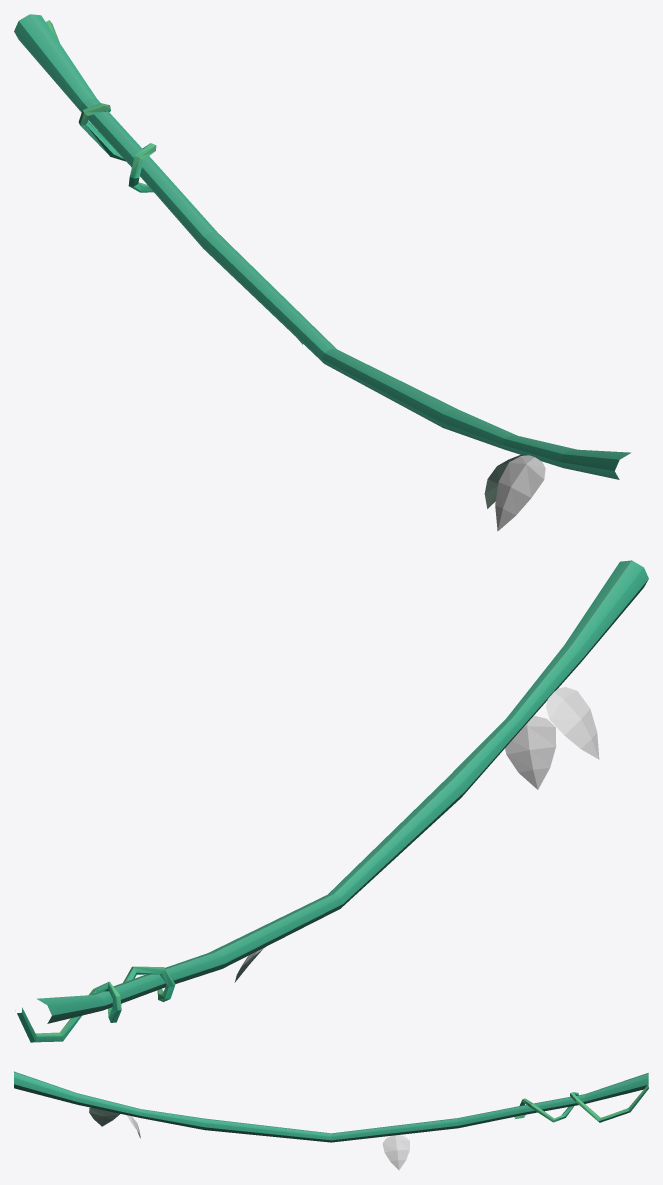
File: vineC.glb
The picture shows the model from 3 angles, top to bottom: view 1: azimuth 30°, elevation 25°; view 2: azimuth 150°, elevation 25°; view 3: azimuth 270°, elevation 25°; orthographic projection. The views are drawn at different scales.
Parts seen in each view (by area): view 1: vineC; view 2: vineC; view 3: vineC.
Part boxes in pixels (x1,y1,x2,y2): vineC: (14,14,631,531); vineC: (15,560,648,1042); vineC: (14,1071,648,1170).
Size of the model in its own units: 0.438 by 0.8119 by 5.26.
